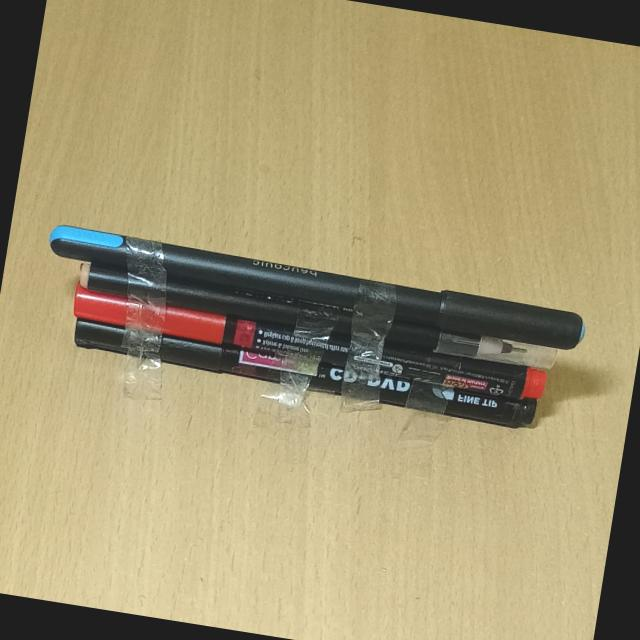marker: (51, 287, 578, 430)
pen: (35, 198, 637, 357)
